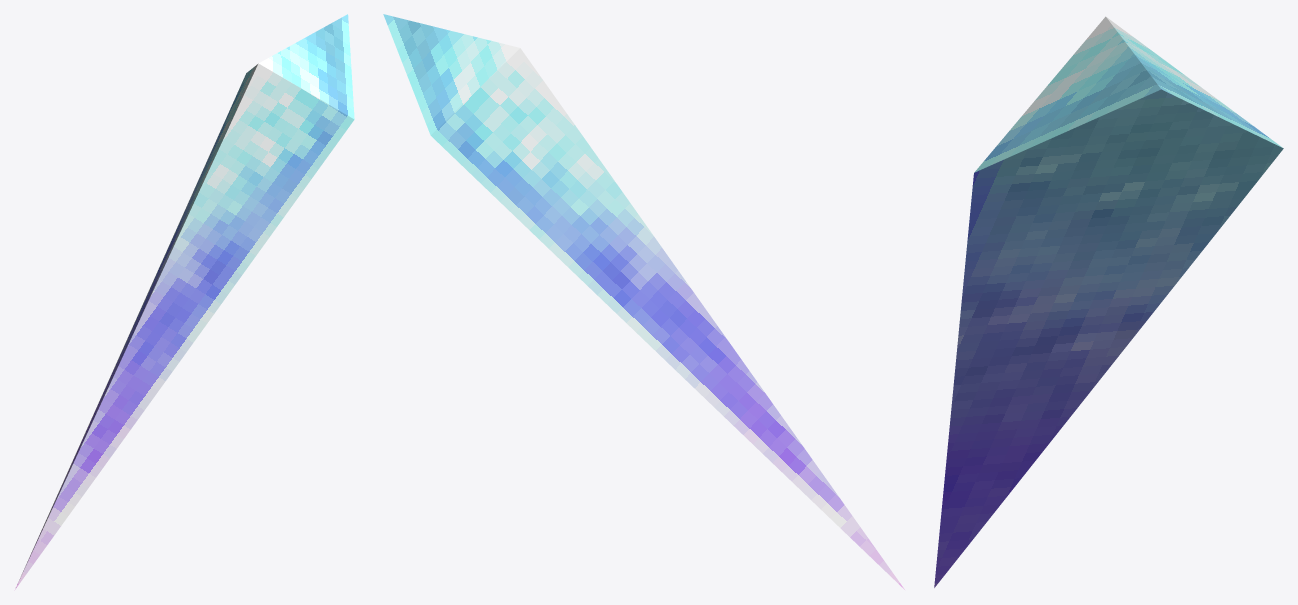
The model's file is Wpn_XingHunRen.FBX.
The picture shows the model from 3 angles, left to right: view 1: azimuth 30°, elevation 25°; view 2: azimuth 150°, elevation 25°; view 3: azimuth 270°, elevation 25°; orthographic projection. The views are drawn at different scales.
Visible parts, largest first — view 1: Wpn_XingHunRen; view 2: Wpn_XingHunRen; view 3: Wpn_XingHunRen.
Part boxes in pixels (x1,y1,x2,y2): Wpn_XingHunRen: (14,14,354,590); Wpn_XingHunRen: (383,14,904,589); Wpn_XingHunRen: (934,16,1283,587).
Size of the model in its own units: 0.838 by 0.9025 by 0.325.
